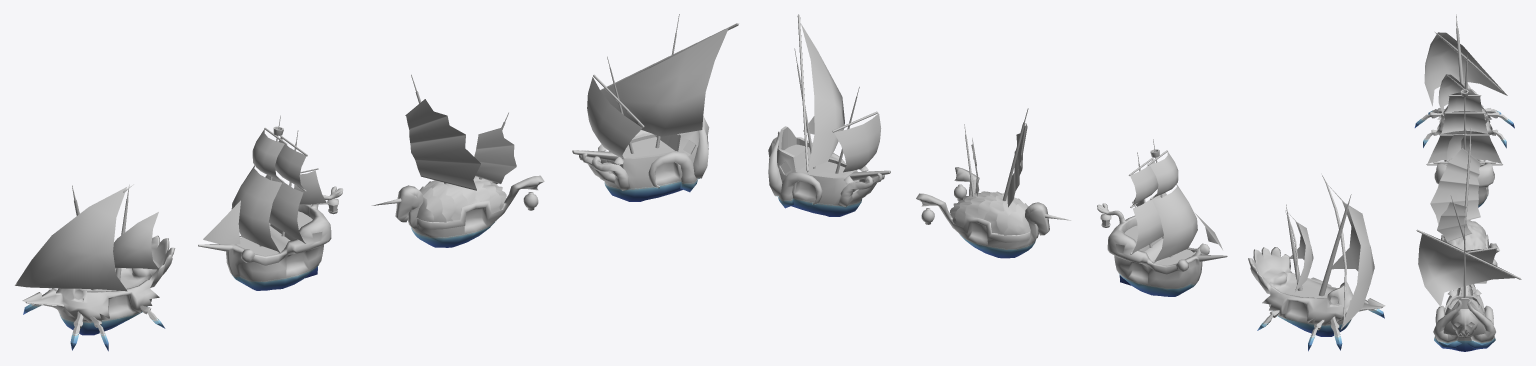
The model's file is ships_personalized.fbx.
3 renders of one model, left to right at view 1: azimuth 30°, elevation 25°; view 2: azimuth 150°, elevation 25°; view 3: azimuth 270°, elevation 25°, orthographic. The views are drawn at different scales.
Visible parts, largest first — view 1: Ngisi_Ship, Aldha_Ship, Leowin_Ship, Haima_Ship, Ngisi_Water, Leowin_Water, Haima_Water, Aldha_Water; view 2: Ngisi_Ship, Leowin_Ship, Aldha_Ship, Haima_Ship, Ngisi_Water, Leowin_Water, Haima_Water; view 3: Ngisi_Ship, Haima_Ship, Leowin_Ship, Aldha_Ship, Ngisi_Water, pasted__pCylinder1.
Part boxes in pixels (box(x1,y1,x2,y2)): Ngisi_Ship: box(572, 14, 739, 190); Aldha_Ship: box(15, 184, 175, 323); Leowin_Ship: box(198, 115, 342, 281); Haima_Ship: box(372, 74, 544, 238); Ngisi_Water: box(604, 178, 701, 201); Leowin_Water: box(232, 264, 319, 290); Haima_Water: box(410, 220, 496, 247); Aldha_Water: box(59, 306, 147, 335); Ngisi_Ship: box(768, 14, 890, 207); Leowin_Ship: box(1097, 139, 1227, 289); Aldha_Ship: box(1248, 175, 1385, 329); Haima_Ship: box(916, 108, 1070, 249); Ngisi_Water: box(775, 196, 861, 216); Leowin_Water: box(1119, 274, 1197, 296); Haima_Water: box(959, 234, 1036, 258); Ngisi_Ship: box(1416, 218, 1521, 342); Haima_Ship: box(1430, 128, 1499, 265); Leowin_Ship: box(1426, 83, 1502, 205); Aldha_Ship: box(1424, 14, 1507, 134); Ngisi_Water: box(1434, 337, 1495, 351); pasted__pCylinder1: box(1414, 110, 1514, 148).
Bounding box in the file's own units: 4.63 × 1.17 × 0.837.
